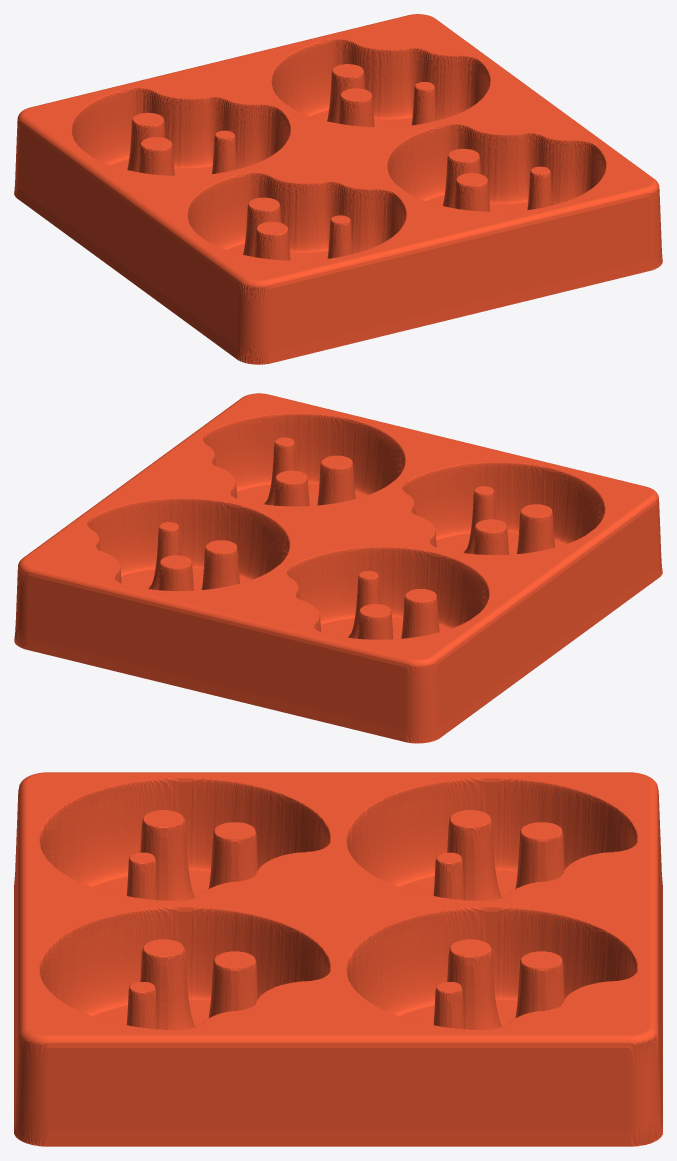
Rendered from mold.glb.
The picture shows the model from 3 angles, top to bottom: view 1: azimuth 30°, elevation 25°; view 2: azimuth 150°, elevation 25°; view 3: azimuth 270°, elevation 25°; orthographic projection. The views are drawn at different scales.
Parts seen in each view (by area): view 1: geometry_0; view 2: geometry_0; view 3: geometry_0.
Part boxes in pixels (bbox=[...]): geometry_0: bbox=[14, 14, 662, 364]; geometry_0: bbox=[14, 393, 662, 743]; geometry_0: bbox=[14, 772, 662, 1146].
Size of the model in its own units: 0.1716 by 0.031 by 0.1721.
